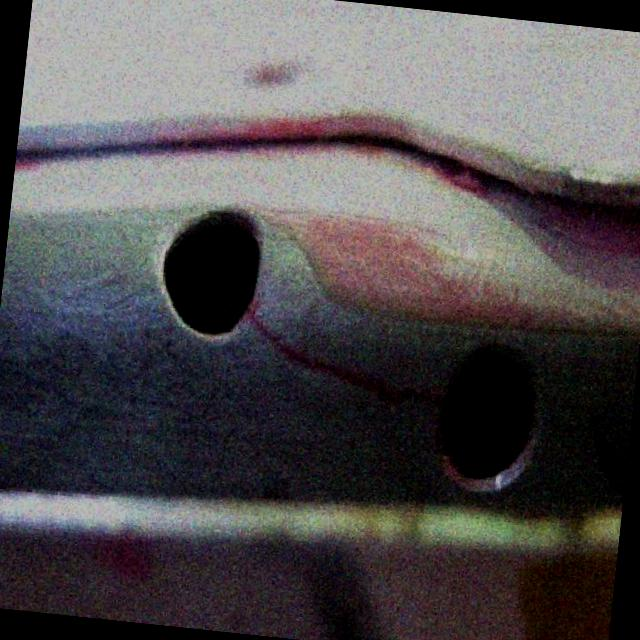crack: (288, 360, 447, 410), (248, 312, 298, 354)
